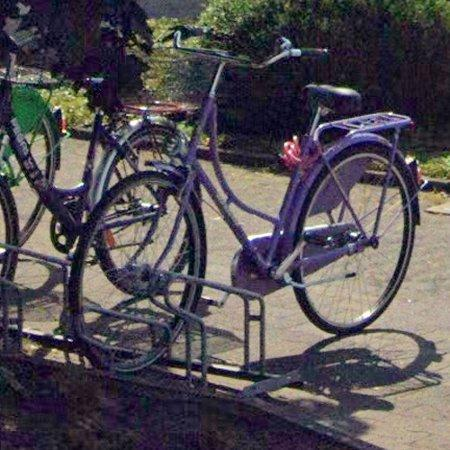bicycles: (69, 35, 420, 370), (0, 77, 206, 294)
